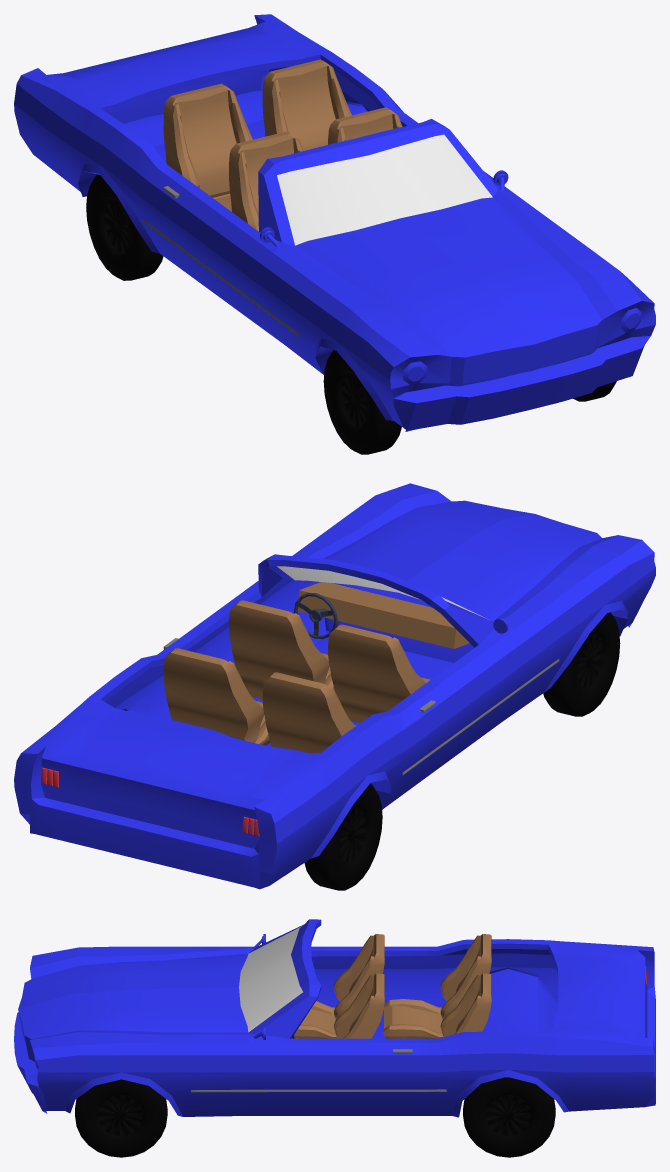
The model's file is carmodel(blue).fbx.
3 views of the same model, one above another, from view 1: azimuth 30°, elevation 25°; view 2: azimuth 150°, elevation 25°; view 3: azimuth 270°, elevation 25° (orthographic). The views are drawn at different scales.
Visible parts, largest first — view 1: bodywork, chairs, wheel in front right, wheel in back right, side add ons; view 2: bodywork, chairs, dashboard, wheel in back right, wheel in front right, steering wheel, side add ons; view 3: bodywork, chairs, wheel in back left, wheel in front left, side add ons.
Boxes of the visible parts, box(x1,y1,x2,y2) form: bodywork: box(14, 14, 655, 431); chairs: box(163, 59, 402, 231); wheel in front right: box(323, 350, 401, 454); wheel in back right: box(86, 174, 163, 280); side add ons: box(142, 186, 299, 336); bodywork: box(14, 483, 655, 889); chairs: box(163, 600, 430, 753); dashboard: box(297, 582, 469, 648); wheel in back right: box(304, 783, 382, 890); wheel in front right: box(543, 612, 620, 716); steering wheel: box(294, 593, 337, 639); side add ons: box(163, 638, 559, 774); bodywork: box(14, 919, 655, 1117); chairs: box(292, 934, 491, 1038); wheel in back left: box(463, 1077, 555, 1157); wheel in front left: box(75, 1079, 167, 1157); side add ons: box(191, 1049, 446, 1092).
Bounding box in the file's own units: 134 × 93.9 × 336.
